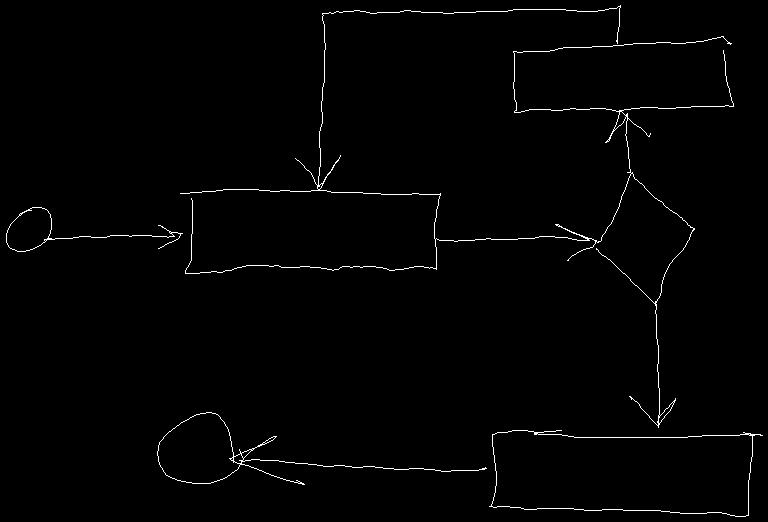arrow: (295, 5, 620, 190), (229, 436, 486, 484), (629, 301, 675, 427), (436, 224, 595, 260), (44, 225, 182, 248), (605, 110, 650, 172)
connection: (157, 412, 243, 483), (6, 207, 51, 251)
decision: (596, 172, 694, 305)
process: (489, 430, 762, 516), (180, 189, 440, 273), (513, 36, 733, 112)
